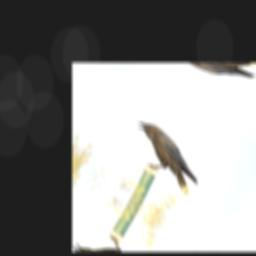Crow: (121, 113, 213, 199)
